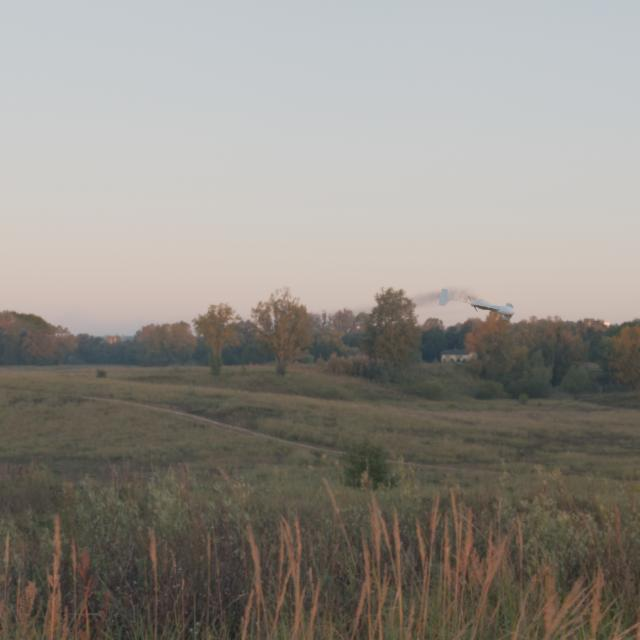Airaplan: (438, 288, 514, 320)
